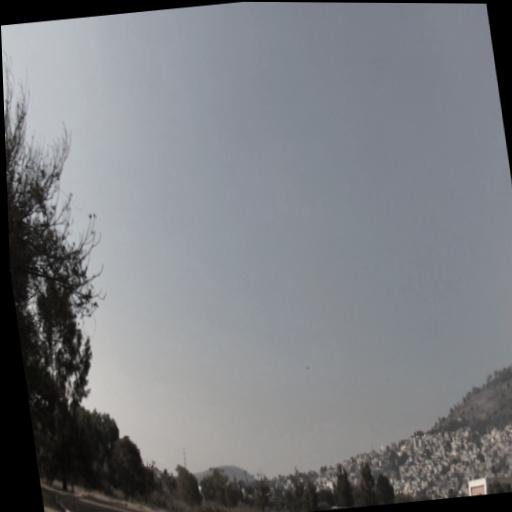drones: (304, 365, 311, 371)
